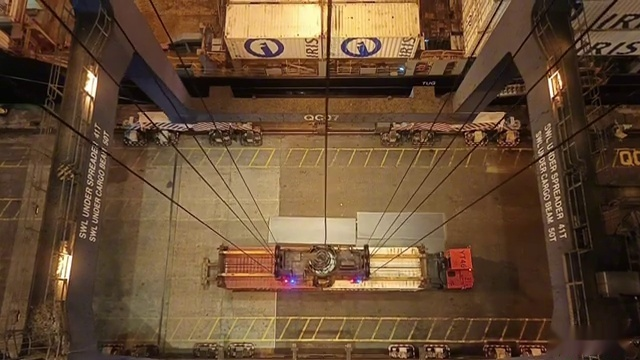container: (210, 246, 436, 300), (224, 2, 426, 59), (208, 1, 436, 41), (209, 0, 433, 34), (218, 6, 427, 40), (223, 0, 422, 13), (225, 0, 421, 6), (216, 0, 429, 4)
guide_mark: (73, 318, 548, 341), (106, 148, 540, 168)
spreader: (211, 244, 433, 299)
target_slot: (200, 241, 436, 301)
